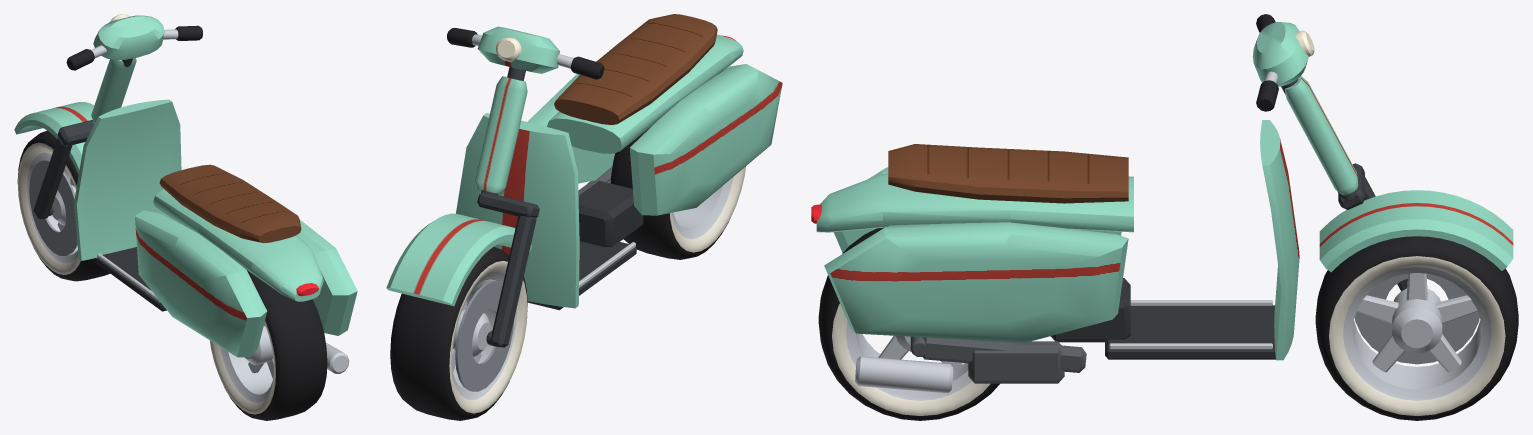
Rendered from MotorcycleTag_Scooter.glb.
3 views of the same model, side by side, from view 1: azimuth 30°, elevation 25°; view 2: azimuth 150°, elevation 25°; view 3: azimuth 270°, elevation 25° (orthographic). The views are drawn at different scales.
Parts seen in each view (by area): view 1: Bodywork, RearWheel, Seat, FrontWheel, Fork, Handlebars, FrontFender, Frame, Swingarm; view 2: Bodywork, FrontWheel, Seat, Fork, FrontFender, RearWheel, Frame, Handlebars, Headlight; view 3: Bodywork, FrontWheel, Seat, Frame, FrontFender, Swingarm, RearWheel, Fork, Handlebars.
Part boxes in pixels (x1,y1,x2,y2): Bodywork: (74, 99, 357, 357); RearWheel: (209, 269, 327, 420); Seat: (159, 164, 301, 243); FrontWheel: (17, 130, 109, 281); Fork: (33, 58, 136, 219); Handlebars: (66, 15, 202, 70); FrontFender: (14, 102, 94, 174); Frame: (95, 247, 166, 311); Swingarm: (325, 342, 349, 373); Bodywork: (456, 34, 782, 308); FrontWheel: (390, 247, 527, 420); Seat: (554, 14, 717, 124); Fork: (475, 67, 539, 347); FrontFender: (386, 213, 532, 306); RearWheel: (610, 126, 745, 259); Frame: (527, 180, 643, 310); Handlebars: (447, 26, 604, 79); Headlight: (496, 37, 521, 61); Bodywork: (816, 120, 1299, 360); FrontWheel: (1315, 236, 1518, 420); Seat: (888, 144, 1128, 203); Frame: (1050, 278, 1275, 359); FrontFender: (1319, 190, 1513, 272); Swingarm: (855, 336, 1086, 393); RearWheel: (818, 227, 999, 420); Fork: (1281, 76, 1407, 291); Handlebars: (1252, 14, 1308, 111).
Size of the model in its own units: 1.87 by 3.93 by 6.62.
Materials: 1 (1 with a texture image).
